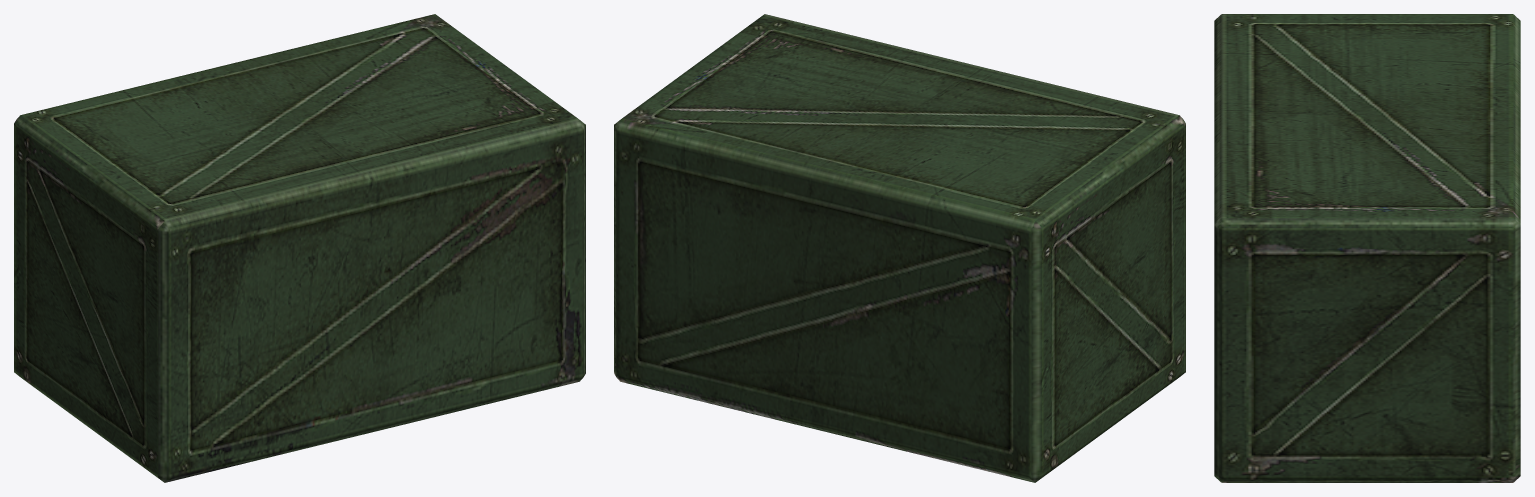
File: propCrate.fbx
3 renders of one model, left to right at view 1: azimuth 30°, elevation 25°; view 2: azimuth 150°, elevation 25°; view 3: azimuth 270°, elevation 25°, orthographic.
Parts seen in each view (by area): view 1: propCrate_geom; view 2: propCrate_geom; view 3: propCrate_geom.
Part boxes in pixels (x1,y1,x2,y2): propCrate_geom: (14,14,585,482); propCrate_geom: (614,14,1185,482); propCrate_geom: (1214,14,1520,482).
Bounding box in the file's own units: 107 × 62.51 × 65.54.
1 material, 1 textured.
